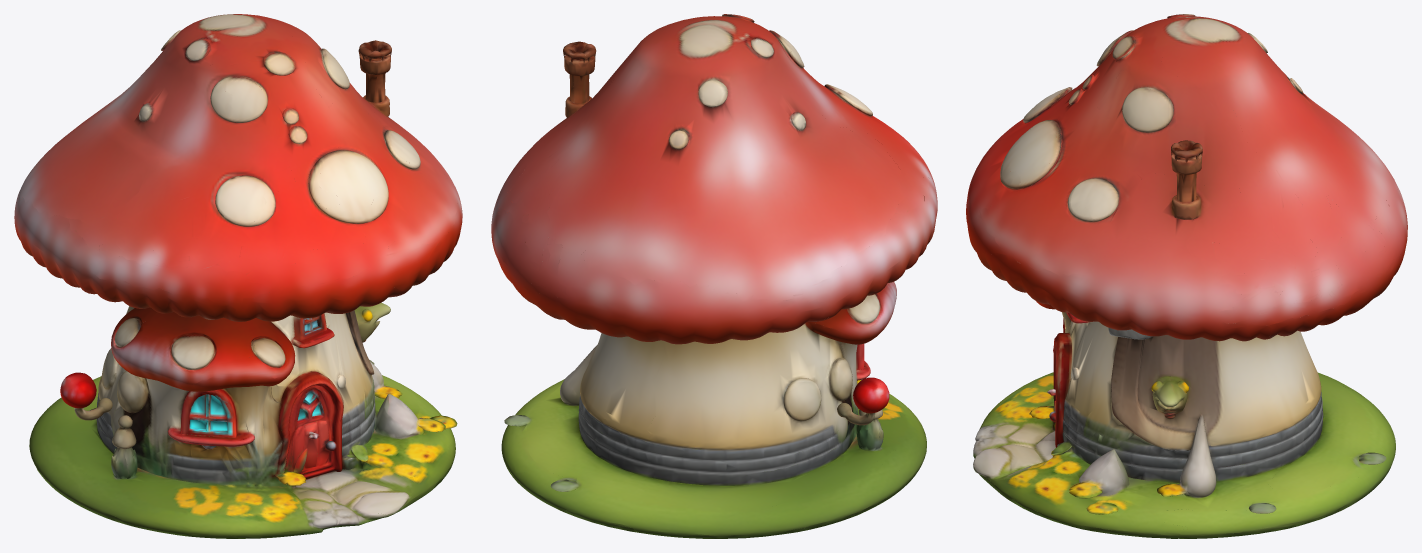
The model's file is rumahjamur.glb.
3 views of the same model, side by side, from view 1: azimuth 30°, elevation 25°; view 2: azimuth 150°, elevation 25°; view 3: azimuth 270°, elevation 25° (orthographic).
Parts seen in each view (by area): view 1: material; view 2: material; view 3: material.
Part boxes in pixels (x1=…): material: x1=14, y1=14, x2=462, y2=538; material: x1=491, y1=14, x2=937, y2=538; material: x1=966, y1=14, x2=1407, y2=538.
Bounding box in the file's own units: 0.8356 × 0.8808 × 0.8331.
Materials: 1 (1 with a texture image).
